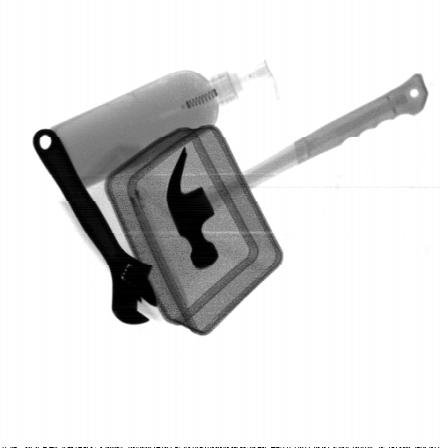Hammer: (167, 73, 428, 269)
Wrench: (33, 128, 158, 326)
